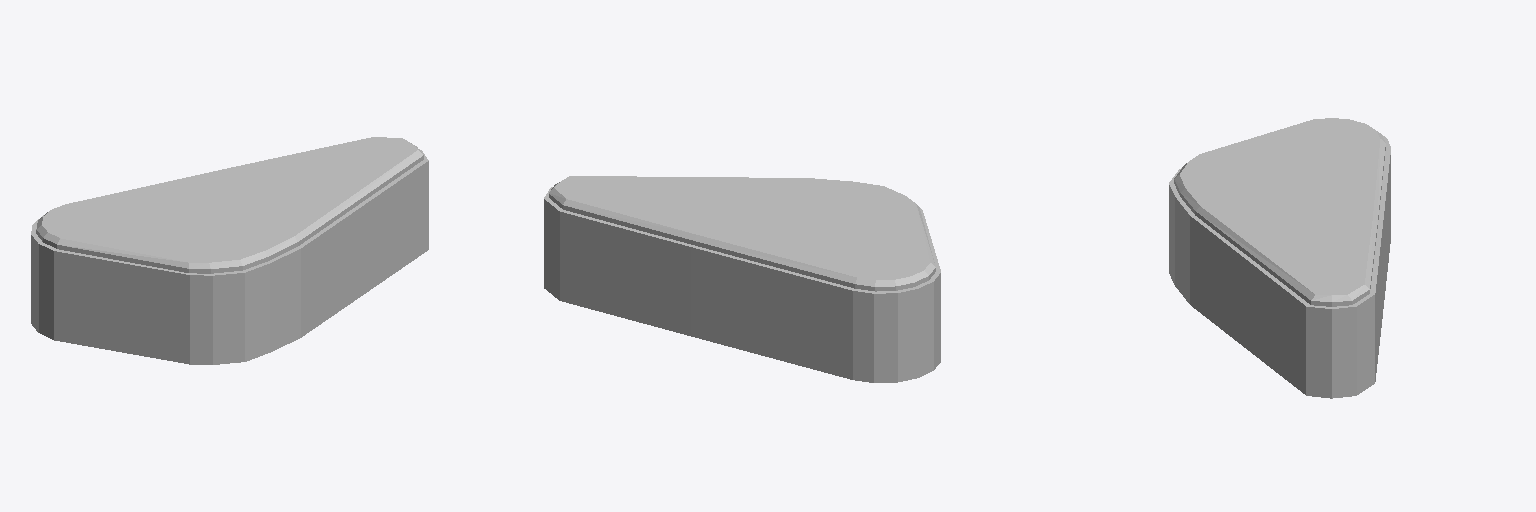
The model's file is Triangle Bumper.obj.
The picture shows the model from 3 angles: view 1: azimuth 30°, elevation 25°; view 2: azimuth 150°, elevation 25°; view 3: azimuth 270°, elevation 25°; orthographic projection.
Visible parts, largest first — view 1: Cylinder; view 2: Cylinder; view 3: Cylinder.
Part boxes in pixels (x1,y1,x2,y2): Cylinder: (31, 137, 428, 364); Cylinder: (544, 176, 940, 382); Cylinder: (1169, 118, 1390, 398).
Size of the model in its own units: 8.16 by 2 by 4.11.